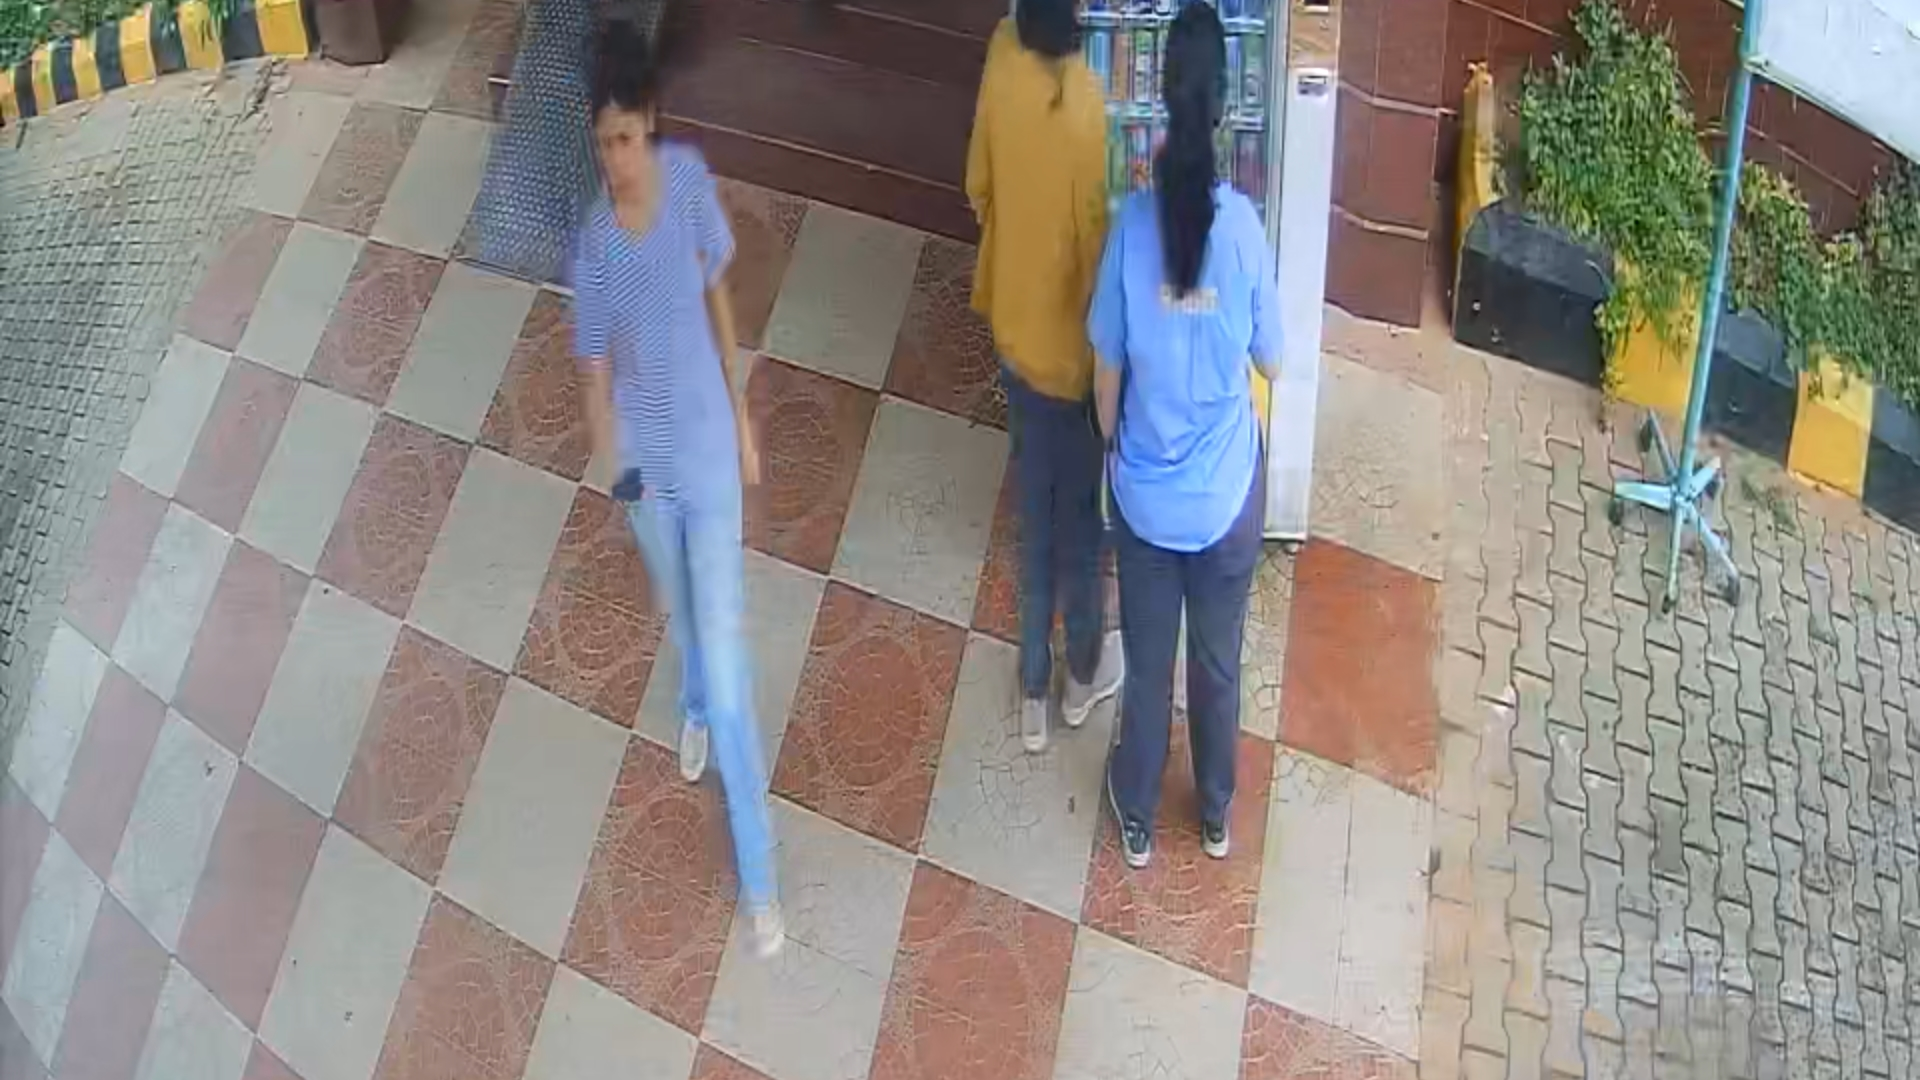intruder: (530, 37, 812, 963)
